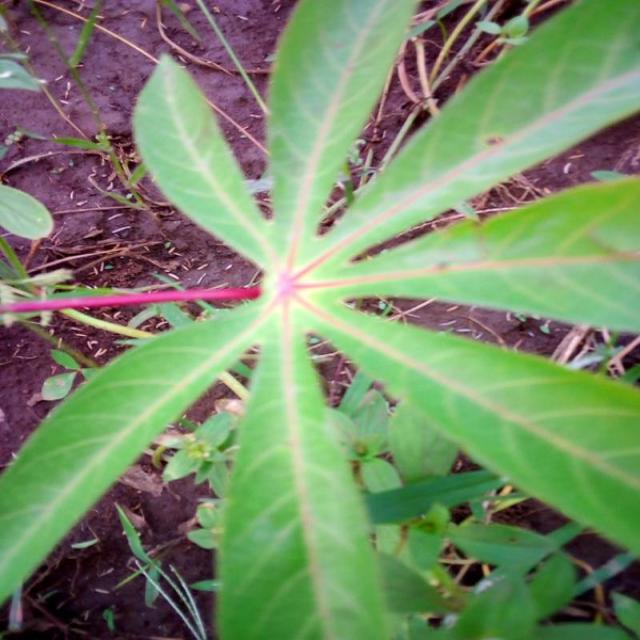cassava leaf: (0, 0, 638, 637), (214, 306, 389, 638)
